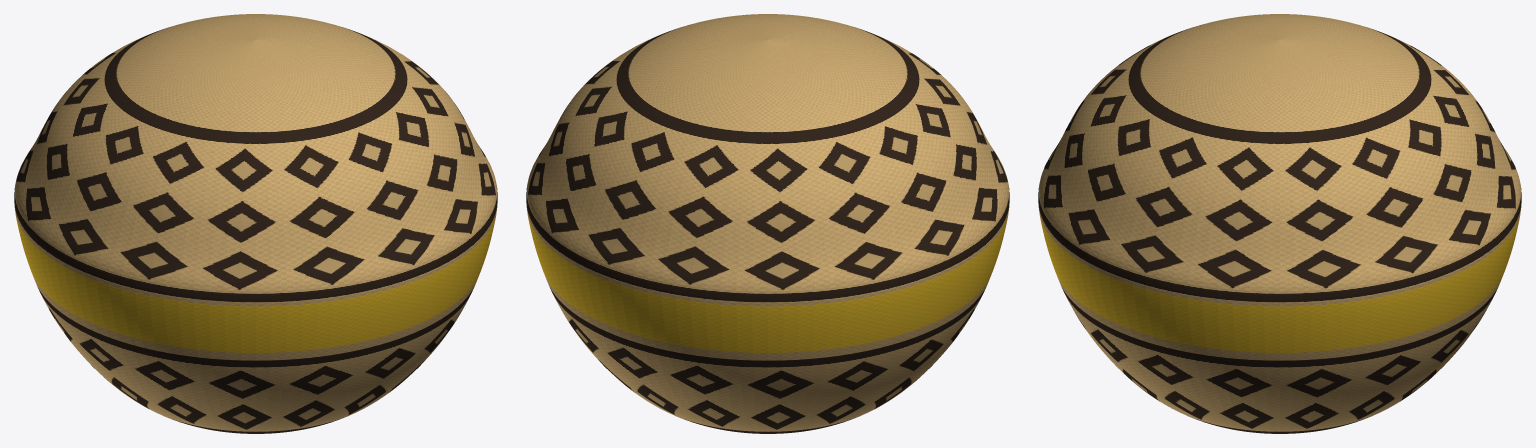
File: bakul_anyaman.glb
3 renders of one model, left to right at view 1: azimuth 30°, elevation 25°; view 2: azimuth 150°, elevation 25°; view 3: azimuth 270°, elevation 25°, orthographic.
Visible parts, largest first — view 1: geometry_0; view 2: geometry_0; view 3: geometry_0.
Boxes of the visible parts, x1,y1,x2,y2 form: geometry_0: (14, 14, 497, 433); geometry_0: (526, 14, 1009, 433); geometry_0: (1038, 14, 1521, 433).
Bounding box in the file's own units: 2.15 × 1.76 × 2.15.
Materials: 1 (1 with a texture image).
